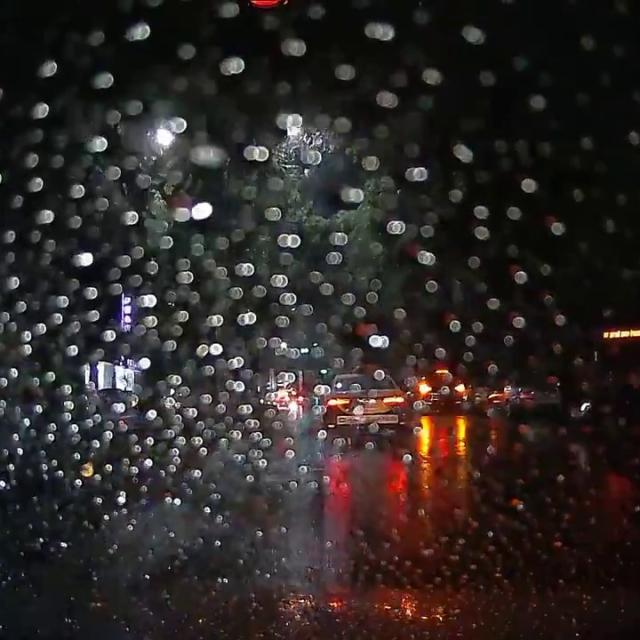Car: (320, 370, 409, 434), (478, 367, 561, 417), (412, 366, 471, 414)
